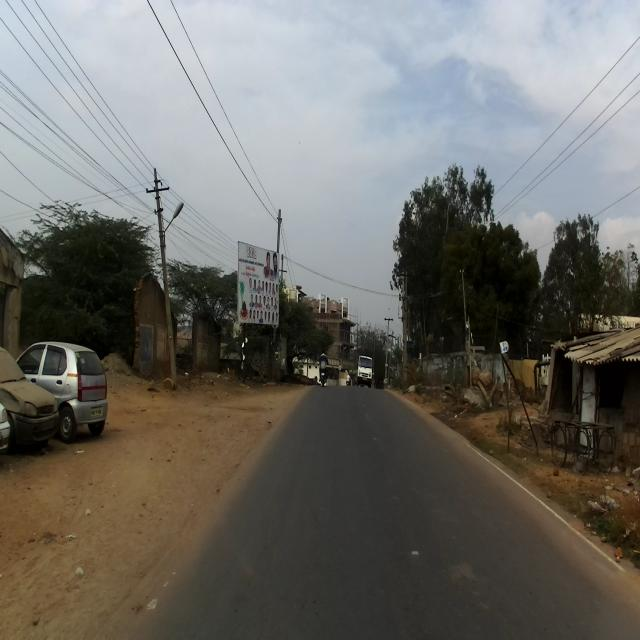car ahead at: (27, 340, 110, 438)
electric pole ahead at: (144, 159, 197, 386)
